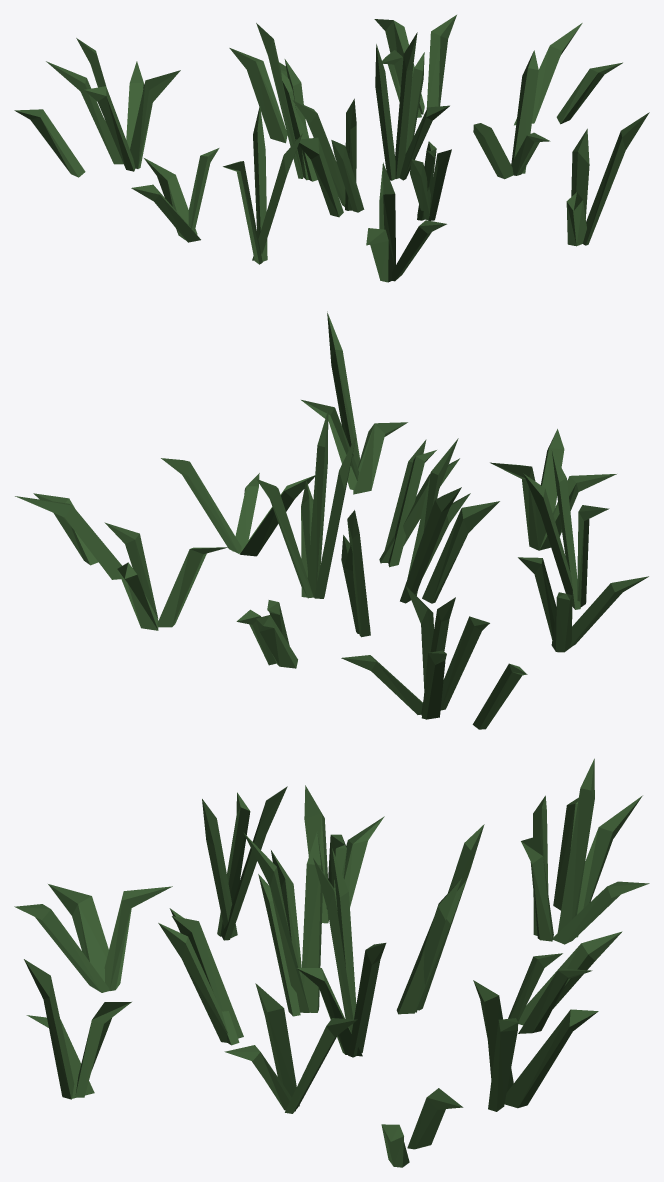
Rendered from SM_Env_Grass_03.fbx.
The picture shows the model from 3 angles, top to bottom: view 1: azimuth 30°, elevation 25°; view 2: azimuth 150°, elevation 25°; view 3: azimuth 270°, elevation 25°; orthographic projection. The views are drawn at different scales.
Visible parts, largest first — view 1: SM_Env_Grass_03; view 2: SM_Env_Grass_03; view 3: SM_Env_Grass_03.
Boxes of the visible parts, x1,y1,x2,y2 form: SM_Env_Grass_03: (14,15,649,282); SM_Env_Grass_03: (15,311,648,729); SM_Env_Grass_03: (14,758,649,1167).
Bounding box in the file's own units: 0.0433 × 0.0123 × 0.036.
Materials: 1 (1 with a texture image).
